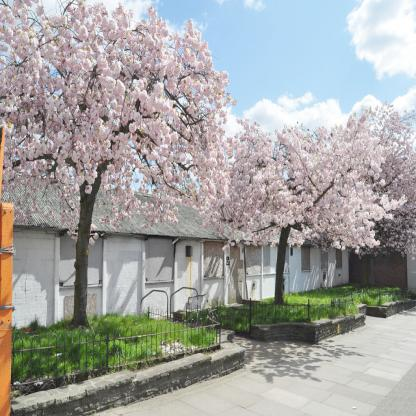YaeSakura: (0, 7, 237, 238), (198, 86, 415, 270)
